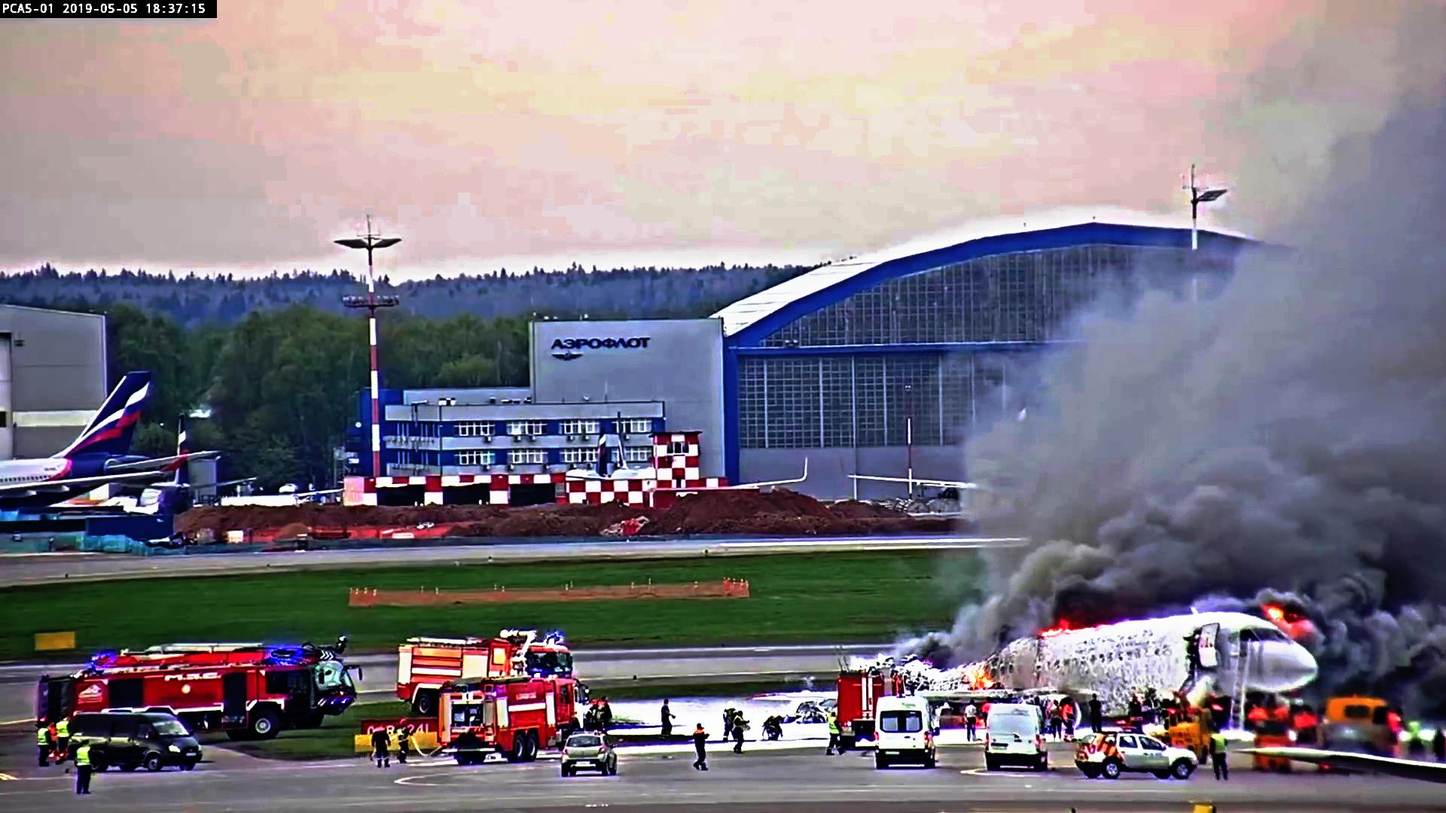smoke: (1087, 326, 1446, 568), (1311, 546, 1446, 699)
